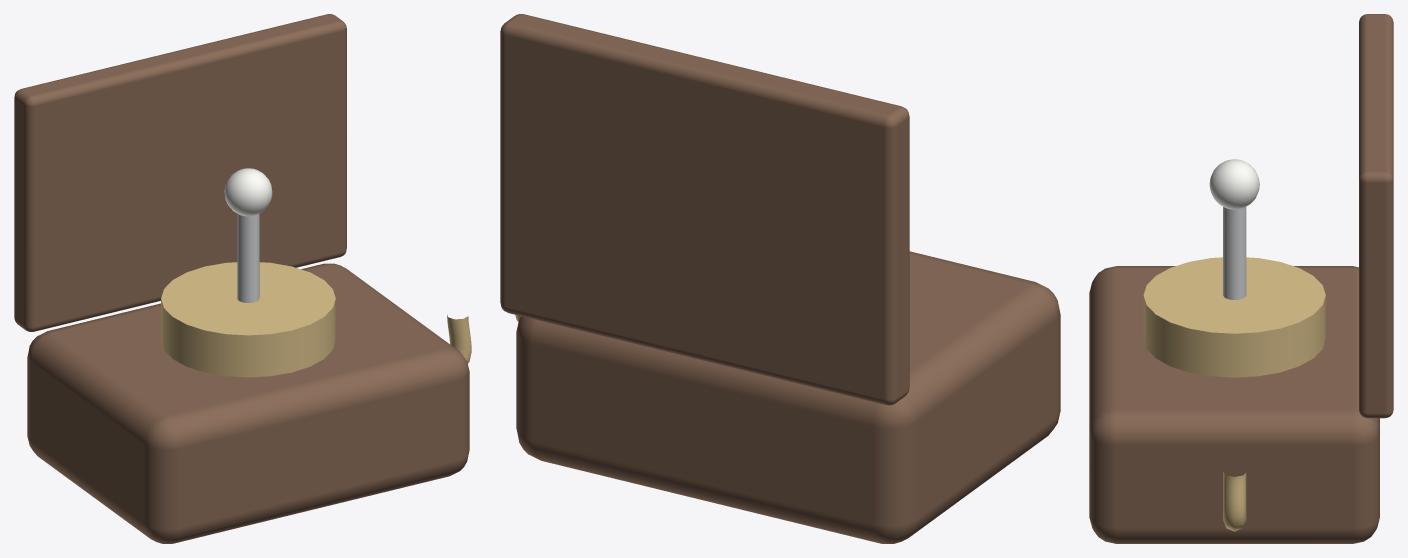
The model's file is paranormal-investigation-house-music-box-474a4ef1__26882.glb.
The picture shows the model from 3 angles, left to right: view 1: azimuth 30°, elevation 25°; view 2: azimuth 150°, elevation 25°; view 3: azimuth 270°, elevation 25°; orthographic projection. The views are drawn at different scales.
Parts seen in each view (by area): view 1: music-box, music-box-lid; view 2: music-box-lid, music-box; view 3: music-box, music-box-lid.
Part boxes in pixels (x1=…): music-box: x1=27, y1=168, x2=471, y2=543; music-box-lid: x1=14, y1=14, x2=346, y2=331; music-box-lid: x1=500, y1=14, x2=909, y2=405; music-box: x1=515, y1=251, x2=1060, y2=543; music-box: x1=1089, y1=159, x2=1379, y2=543; music-box-lid: x1=1359, y1=14, x2=1393, y2=418.
Size of the model in its own units: 0.2379 by 0.215 by 0.157.
